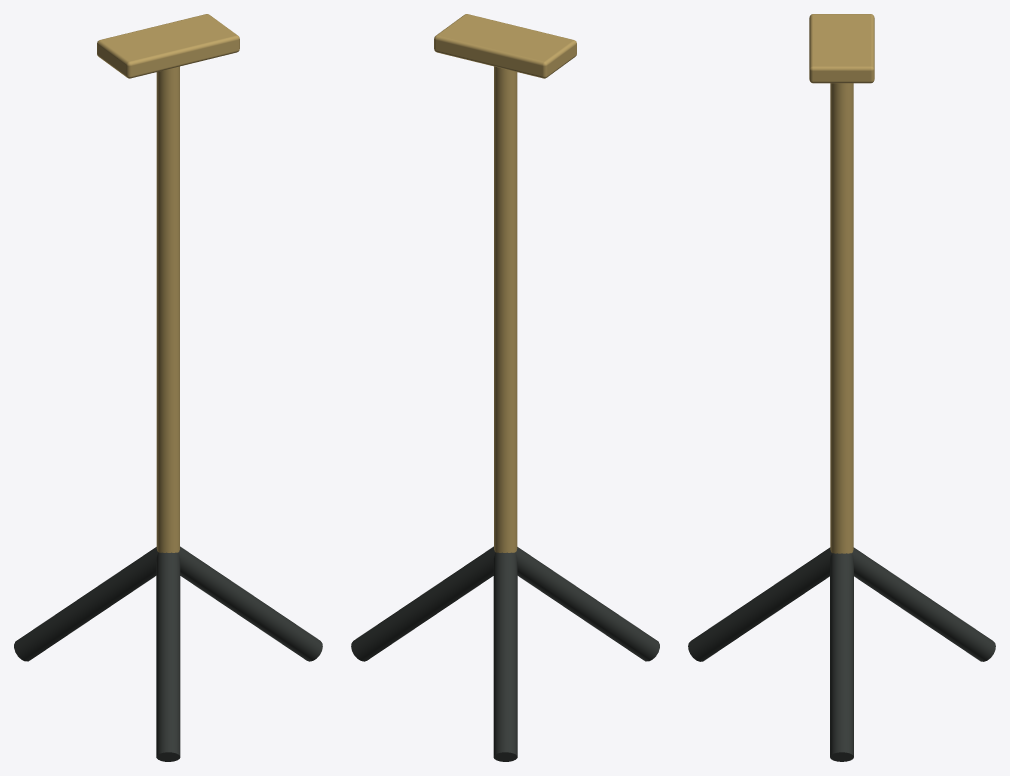
Rendered from abandoned-puppet-theatre-and-prop-vault-spotlight-yoke-335ca905.glb.
The picture shows the model from 3 angles, left to right: view 1: azimuth 30°, elevation 25°; view 2: azimuth 150°, elevation 25°; view 3: azimuth 270°, elevation 25°; orthographic projection.
Parts seen in each view (by area): view 1: spotlight-yoke-stand; view 2: spotlight-yoke-stand; view 3: spotlight-yoke-stand.
Part boxes in pixels (x1,y1,x2,y2): spotlight-yoke-stand: (14,14,322,761); spotlight-yoke-stand: (351,14,659,761); spotlight-yoke-stand: (688,14,995,761).
Size of the model in its own units: 0.5811 by 1.55 by 0.6629.
